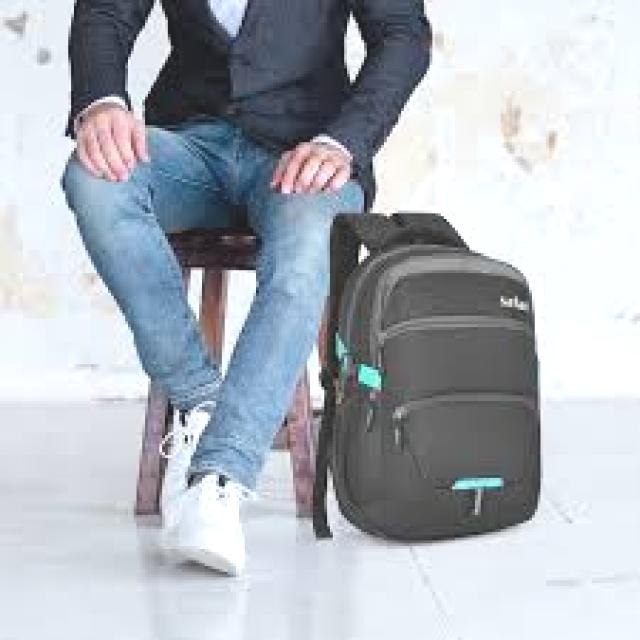backpack: (311, 212, 541, 542)
